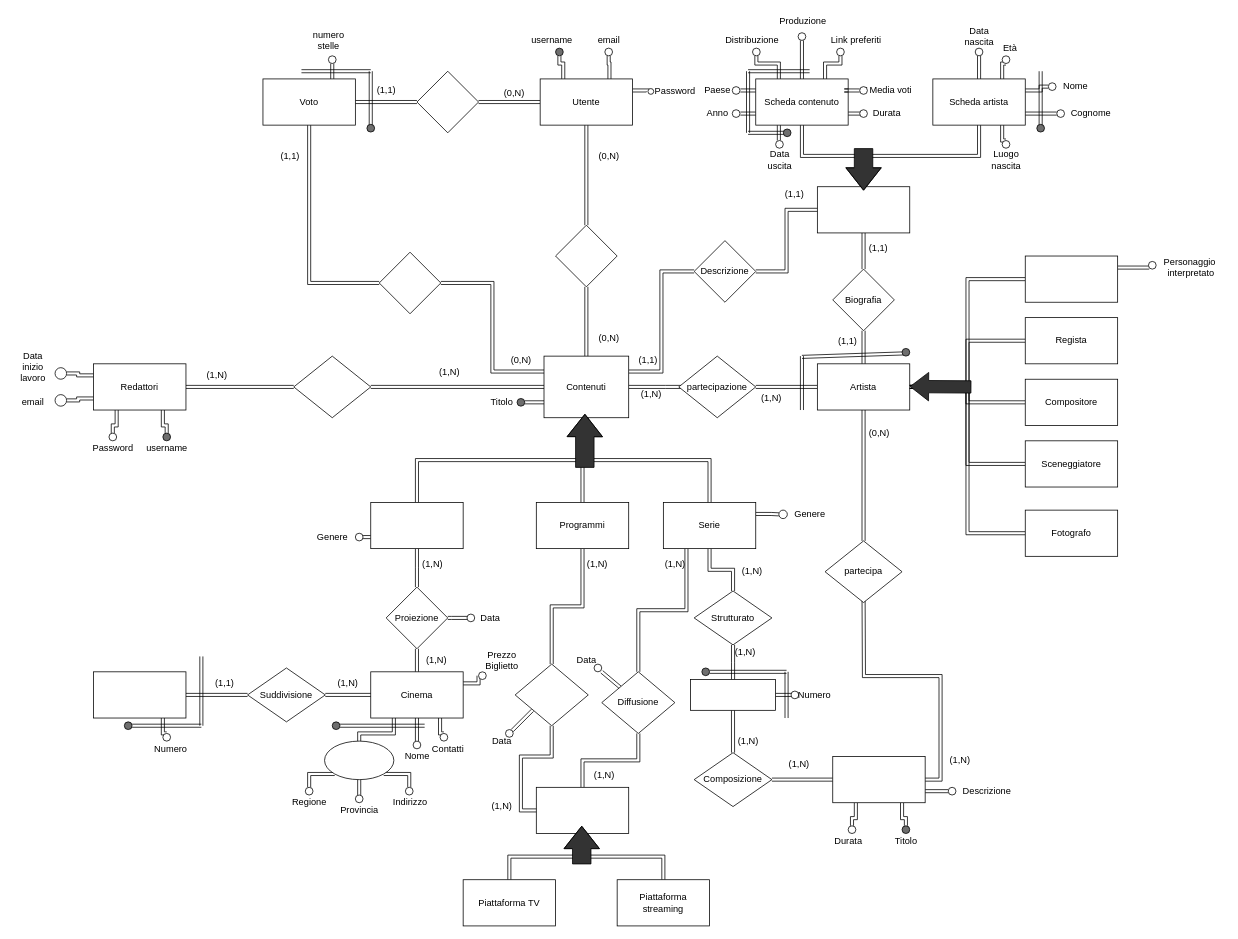
Image size: 1238x939. Some labels were removed from this diagram. Each missing label, with the centre of its shape:
Attore: point 1071,278
Episodio: point 878,779
Film: point 416,525
Gestione: point 332,386
Localizzazione: point 359,760
Piattaforma: point 582,810
Preferito: point 586,255
Sala: point 139,694
Scheda: point 863,209
Stagioni: point 733,694
Trasmissione: point 551,694
Valutazione: point 409,282
Votazione: point 447,101
